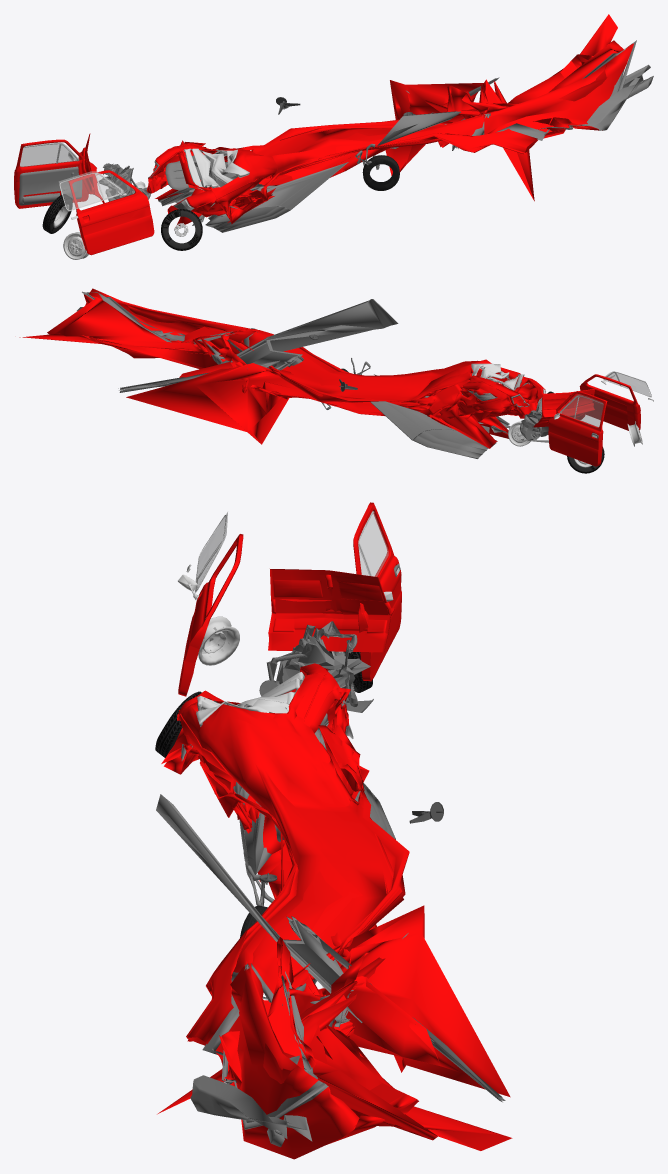
File: crash_12.fbx
3 renders of one model, top to bottom at view 1: azimuth 30°, elevation 25°; view 2: azimuth 150°, elevation 25°; view 3: azimuth 270°, elevation 25°, orthographic. The views are drawn at different scales.
Visible parts, largest first — view 1: Mesh_0304_rip, Mesh_0348_rip, Mesh_0387_rip, Mesh_0425_rip, Mesh_0330_rip, mesh1_jitter1, Mesh_0375_rip, Mesh_0421_rip, Mesh_0309_rip, Mesh_0325_rip, Mesh_0295_rip1, Mesh_0427_rip (+6 smaller); view 2: Mesh_0304_rip, Mesh_0330_rip, Mesh_0387_rip, Mesh_0348_rip, Mesh_0295_rip1, Mesh_0425_rip, mesh1_jitter1, Mesh_0362_rip, Mesh_0403_rip, Mesh_0427_rip, Mesh_0309_rip, Mesh_0386_rip (+3 smaller); view 3: Mesh_0304_rip, Mesh_0348_rip, Mesh_0330_rip, Mesh_0403_rip, Mesh_0387_rip, Mesh_0425_rip, Mesh_0386_rip, Mesh_0325_rip, Mesh_0295_rip1, Mesh_0362_rip, mesh1_jitter1, Mesh_0309_rip (+2 smaller).
Part boxes in pixels (bbox=[...]): Mesh_0304_rip: bbox=[148, 14, 626, 224]; Mesh_0348_rip: bbox=[146, 68, 624, 223]; Mesh_0387_rip: bbox=[148, 43, 633, 232]; Mesh_0425_rip: bbox=[484, 43, 633, 134]; Mesh_0330_rip: bbox=[155, 80, 485, 227]; mesh1_jitter1: bbox=[68, 170, 154, 255]; Mesh_0375_rip: bbox=[19, 166, 82, 205]; Mesh_0421_rip: bbox=[59, 171, 124, 211]; Mesh_0309_rip: bbox=[183, 148, 249, 190]; Mesh_0325_rip: bbox=[587, 64, 653, 130]; Mesh_0295_rip1: bbox=[14, 139, 88, 208]; Mesh_0427_rip: bbox=[20, 142, 79, 167]; Mesh_0304_rip: bbox=[19, 296, 539, 448]; Mesh_0330_rip: bbox=[126, 341, 536, 444]; Mesh_0387_rip: bbox=[84, 292, 543, 458]; Mesh_0348_rip: bbox=[84, 294, 545, 418]; Mesh_0295_rip1: bbox=[548, 391, 607, 466]; Mesh_0425_rip: bbox=[89, 288, 250, 353]; mesh1_jitter1: bbox=[579, 374, 640, 430]; Mesh_0362_rip: bbox=[82, 291, 521, 384]; Mesh_0403_rip: bbox=[533, 389, 595, 427]; Mesh_0427_rip: bbox=[559, 394, 603, 427]; Mesh_0309_rip: bbox=[471, 363, 524, 390]; Mesh_0386_rip: bbox=[519, 397, 548, 441]; Mesh_0304_rip: bbox=[157, 668, 512, 1150]; Mesh_0348_rip: bbox=[161, 663, 408, 1159]; Mesh_0330_rip: bbox=[234, 722, 510, 1097]; Mesh_0403_rip: bbox=[268, 569, 391, 652]; Mesh_0387_rip: bbox=[156, 676, 505, 1122]; Mesh_0425_rip: bbox=[216, 966, 318, 1114]; Mesh_0386_rip: bbox=[259, 621, 370, 706]; Mesh_0325_rip: bbox=[190, 1055, 312, 1146]; Mesh_0295_rip1: bbox=[353, 502, 401, 681]; Mesh_0362_rip: bbox=[199, 680, 408, 1129]; mesh1_jitter1: bbox=[178, 534, 243, 696]; Mesh_0309_rip: bbox=[196, 672, 304, 726].
Bounding box in the file's own units: 27.5 × 5.65 × 7.58.
Materials: 8 (2 with a texture image).
